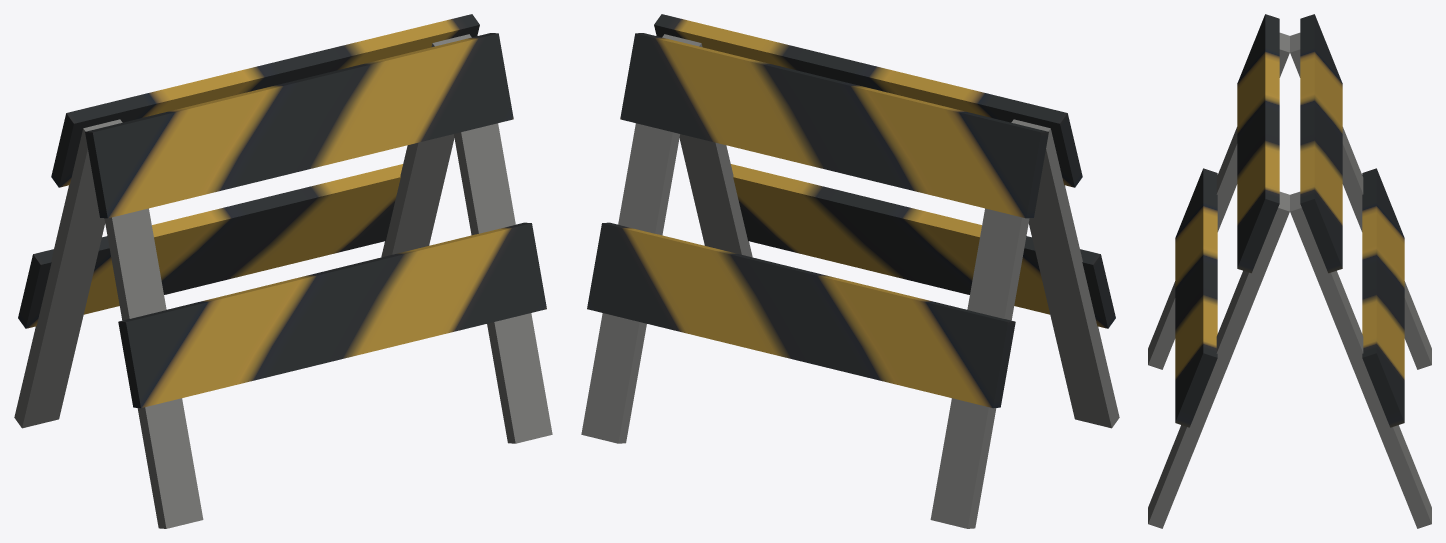
File: SM_Prop_Roadblock_03.obj
3 renders of one model, left to right at view 1: azimuth 30°, elevation 25°; view 2: azimuth 150°, elevation 25°; view 3: azimuth 270°, elevation 25°, orthographic. The views are drawn at different scales.
Parts seen in each view (by area): view 1: SM_Prop_Roadblock_03_0; view 2: SM_Prop_Roadblock_03_0; view 3: SM_Prop_Roadblock_03_0.
Part boxes in pixels (x1,y1,x2,y2): SM_Prop_Roadblock_03_0: (14, 14, 552, 528); SM_Prop_Roadblock_03_0: (581, 14, 1119, 528); SM_Prop_Roadblock_03_0: (1148, 14, 1431, 528).
Size of the model in its own units: 1.17 by 0.9899 by 0.7617.
Materials: 1 (1 with a texture image).
